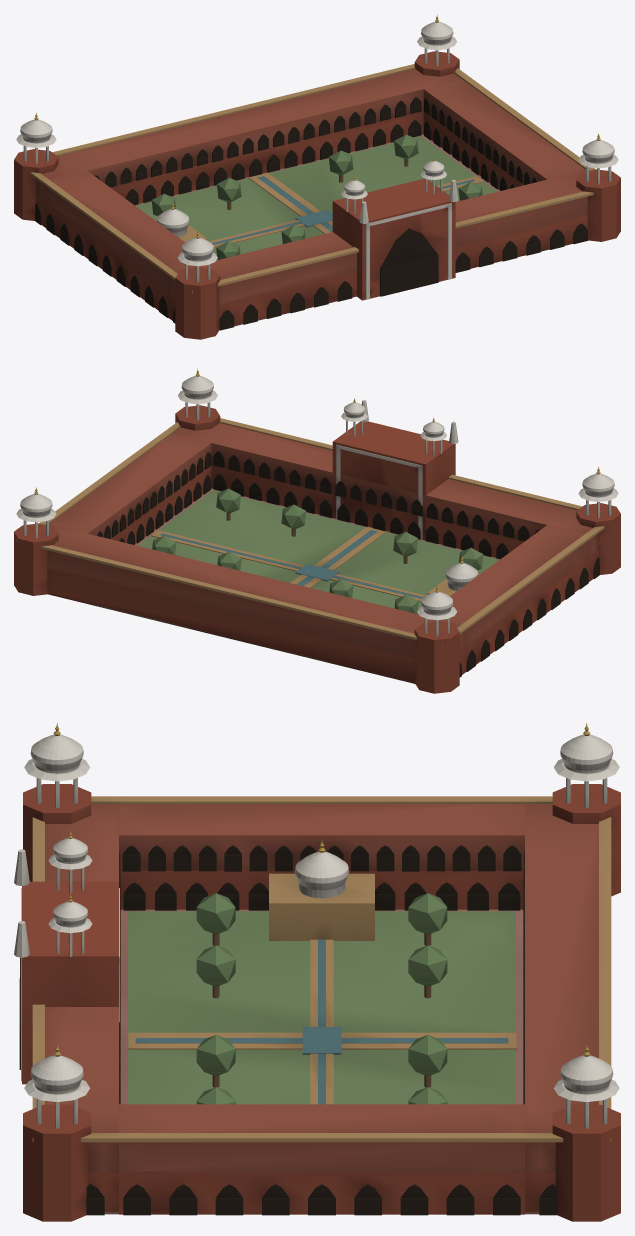
File: jahanara-sarai.glb
3 views of the same model, one above another, from view 1: azimuth 30°, elevation 25°; view 2: azimuth 150°, elevation 25°; view 3: azimuth 270°, elevation 25° (orthographic). The views are drawn at different scales.
Visible parts, largest first — view 1: p1_upper, p2_gate, p0_court; view 2: p1_upper, p2_gate, p0_court; view 3: p1_upper, p2_gate, p0_court.
Boxes of the visible parts, x1,y1,x2,y2 form: p1_upper: (30,64,618,304); p2_gate: (14,14,620,339); p0_court: (35,110,587,330); p1_upper: (16,418,604,658); p2_gate: (14,368,620,693); p0_court: (47,464,599,683); p1_upper: (32,796,611,1172); p2_gate: (14,723,620,1221); p0_court: (86,870,557,1215).
Size of the model in its own units: 93.76 by 23.18 by 68.78.
